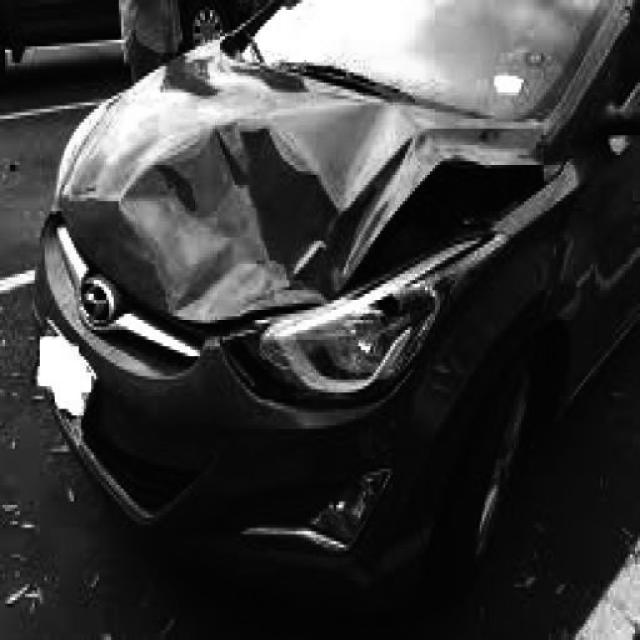car damage: (61, 94, 564, 337)
